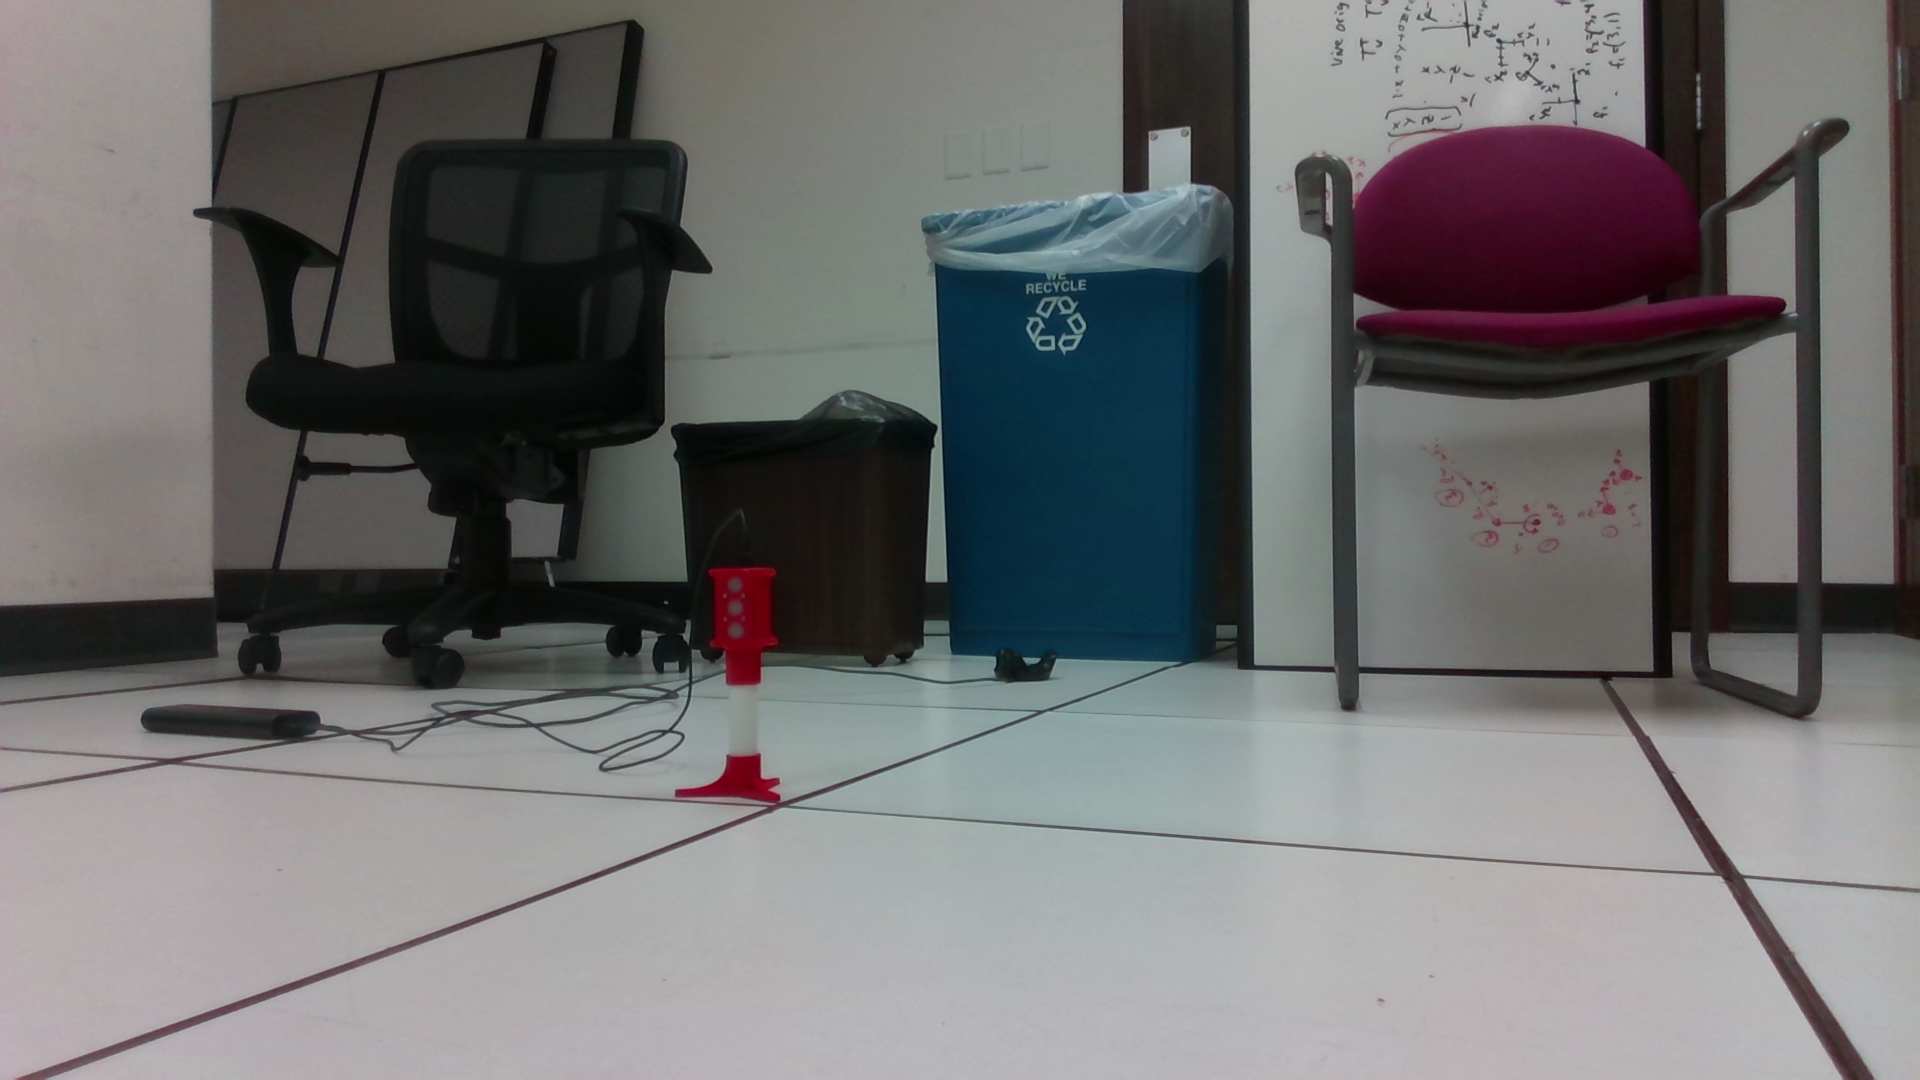stoplight: (707, 568, 781, 692)
